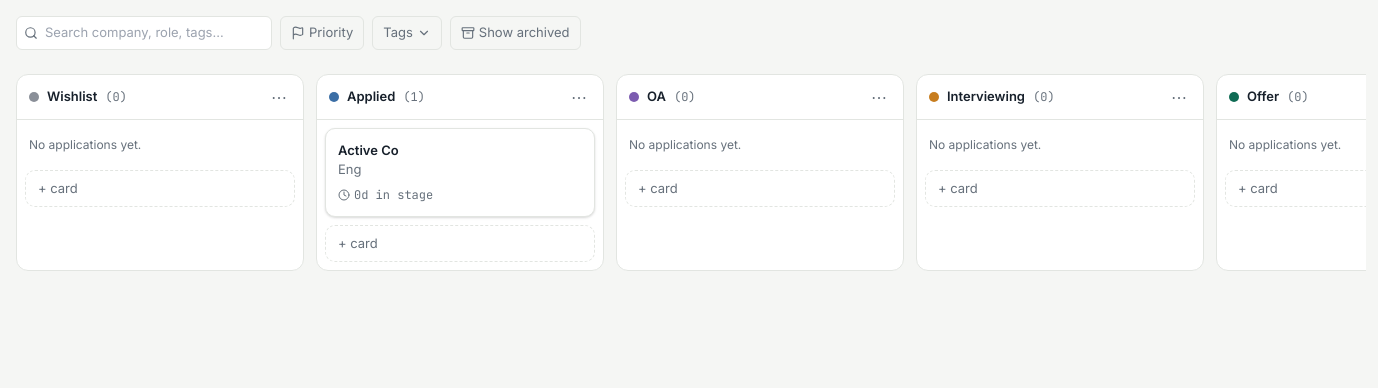
Scenario: KanbanBoard › "Show archived" reveals archived cards, badged, without hiding active ones
This screenshot has width=1378, height=388.
Step 1. Click the button "Show archived" → {"x": 515, "y": 33}, box [450,16,580,50]
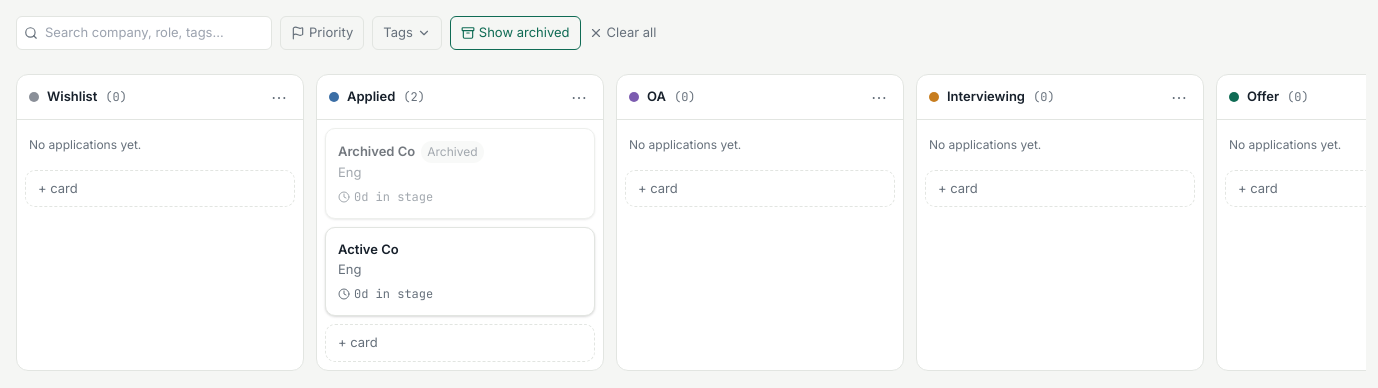
Expected: the text "Active Co" is shown, [338,240,399,260]
Expected: the text "Archived Co" is shown, [338,143,415,159]
Expected: the text "Archived" is shown, [421,140,484,162]
